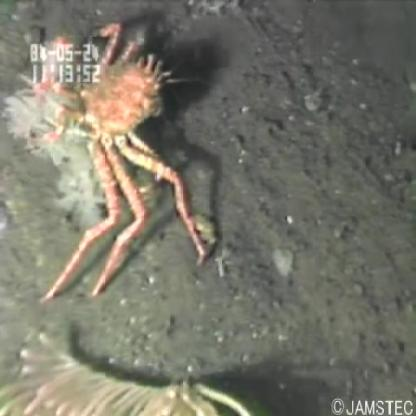Bio: (1, 17, 209, 305), (1, 322, 261, 416)
